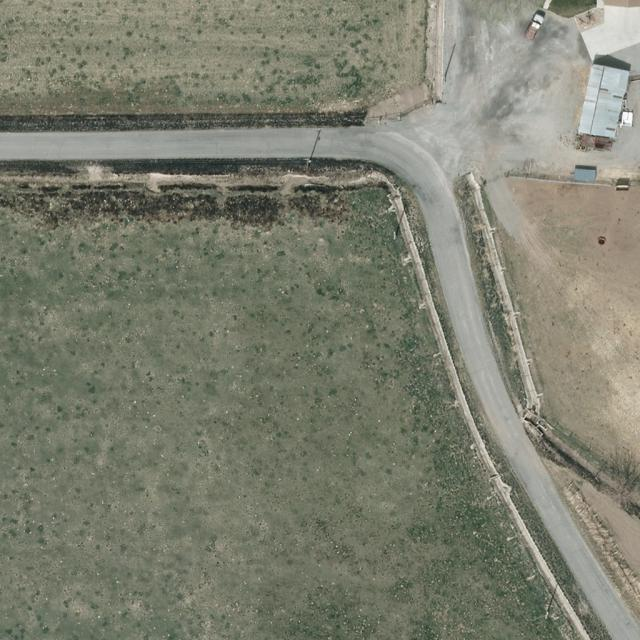vehicle: (526, 16, 546, 42)
